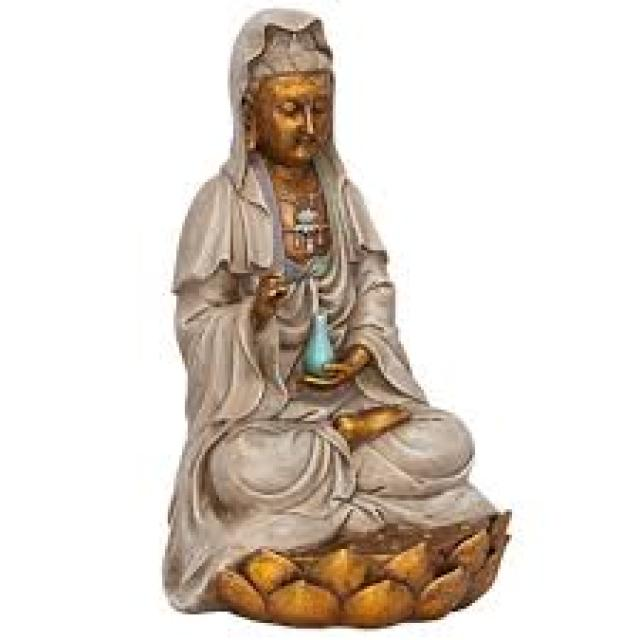Guan Yin: (170, 2, 430, 433)
